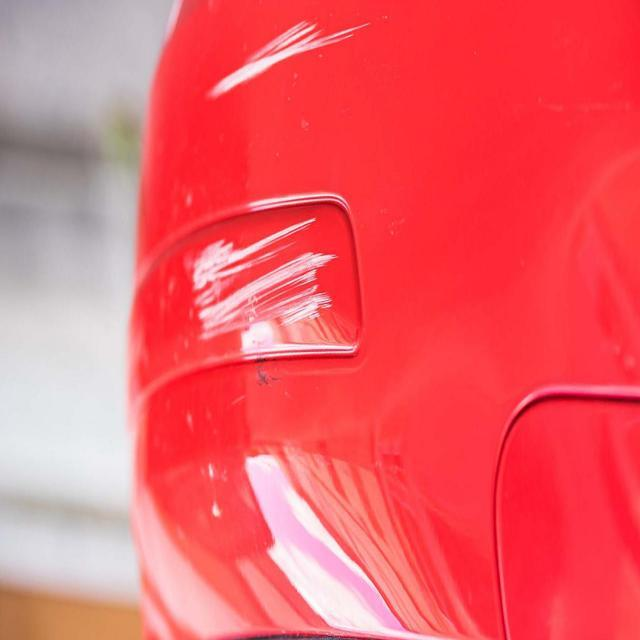scratch: (188, 206, 352, 355), (199, 2, 362, 108)
